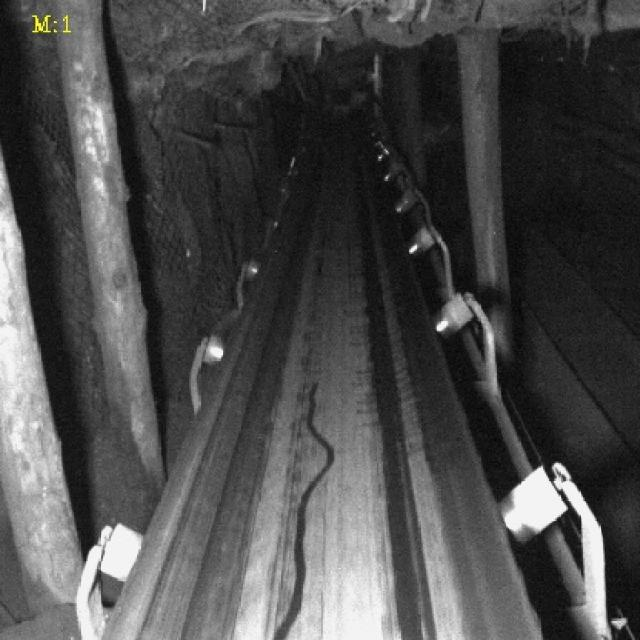bolt: (274, 384, 337, 640)
